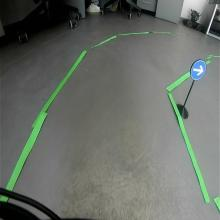right: (190, 59, 206, 80)
